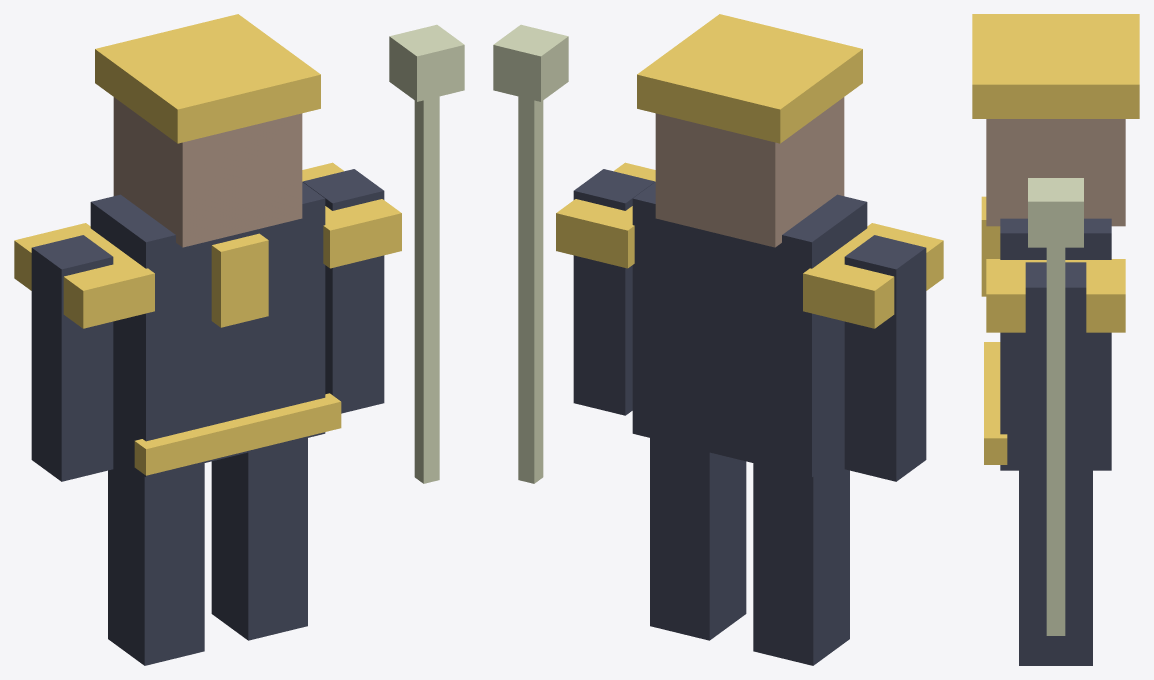
The model's file is 13_draven_glassroot_pilgrim_near_emergency.glb.
3 renders of one model, left to right at view 1: azimuth 30°, elevation 25°; view 2: azimuth 150°, elevation 25°; view 3: azimuth 270°, elevation 25°, orthographic.
Visible parts, largest first — view 1: Draven Glassroot, Pilgrim near Emergency; view 2: Draven Glassroot, Pilgrim near Emergency; view 3: Draven Glassroot, Pilgrim near Emergency.
Boxes of the visible parts, left/top/right/bottom form: Draven Glassroot, Pilgrim near Emergency: left=14, top=14, right=464, bottom=665; Draven Glassroot, Pilgrim near Emergency: left=493, top=14, right=943, bottom=665; Draven Glassroot, Pilgrim near Emergency: left=972, top=14, right=1139, bottom=665.
Size of the model in its own units: 1.07 by 1.44 by 0.3784.
